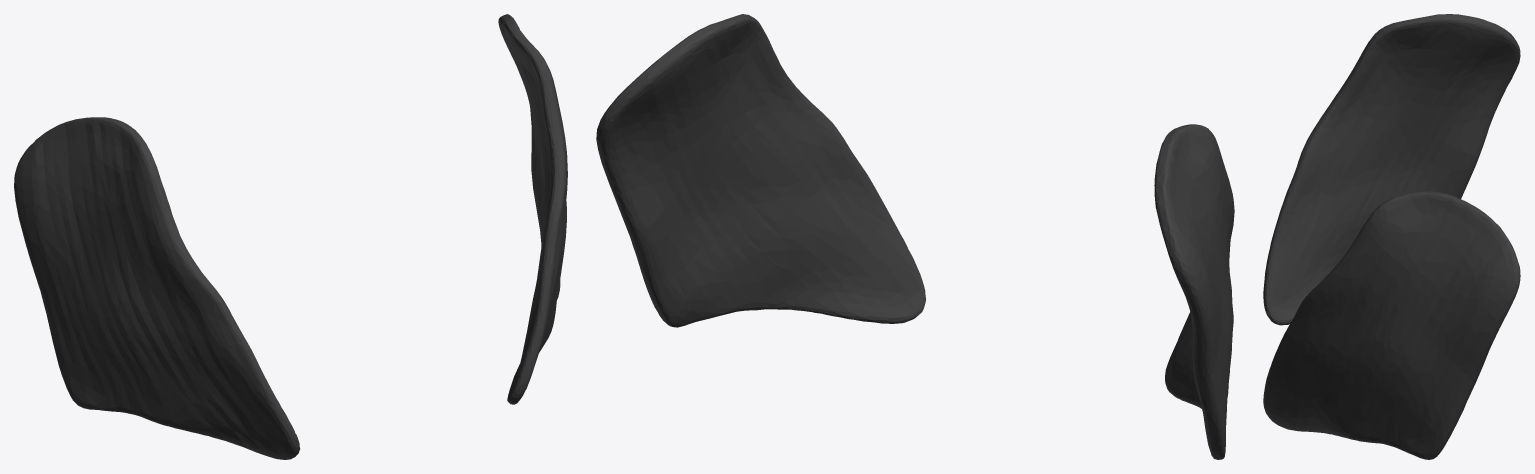
Rendered from m_malaris.glb.
3 renders of one model, left to right at view 1: azimuth 30°, elevation 25°; view 2: azimuth 150°, elevation 25°; view 3: azimuth 270°, elevation 25°, orthographic. The views are drawn at different scales.
Parts seen in each view (by area): view 1: m_malaris; view 2: m_malaris; view 3: m_malaris.
Part boxes in pixels (x1=…): m_malaris: x1=14, y1=14, x2=567, y2=459; m_malaris: x1=596, y1=14, x2=1234, y2=459; m_malaris: x1=1263, y1=14, x2=1520, y2=459.
Bounding box in the file's own units: 0.00223 × 0.00122 × 0.00104.
1 material, 1 textured.
